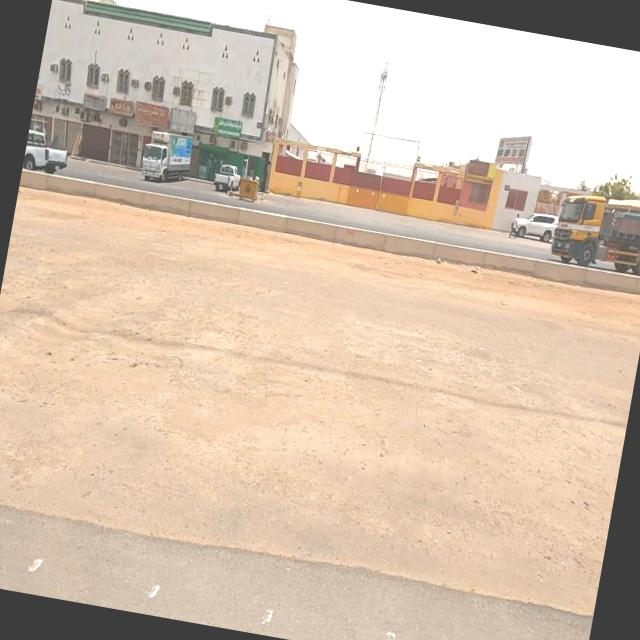debris: (61, 69, 127, 136)
